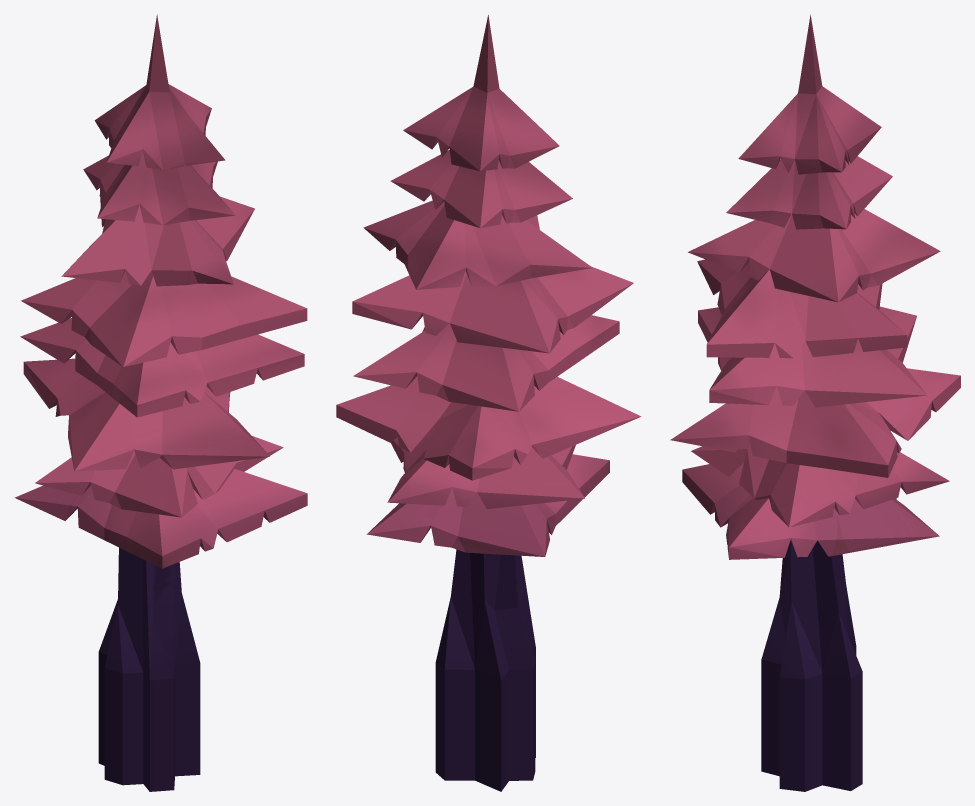
File: tree_type_2_2.glb
3 views of the same model, side by side, from view 1: azimuth 30°, elevation 25°; view 2: azimuth 150°, elevation 25°; view 3: azimuth 270°, elevation 25° (orthographic).
Parts seen in each view (by area): view 1: treetype2_2.001; view 2: treetype2_2.001; view 3: treetype2_2.001.
Part boxes in pixels (box(x1,y1,x2,y2)): treetype2_2.001: box(14, 14, 307, 791); treetype2_2.001: box(336, 15, 641, 791); treetype2_2.001: box(670, 14, 960, 791).
Size of the model in its own units: 2.08 by 6.43 by 2.22.
Materials: 1 (1 with a texture image).
